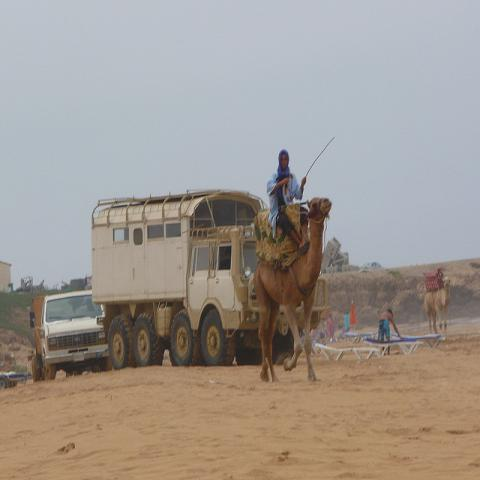truck: (92, 197, 259, 363), (31, 289, 112, 384)
